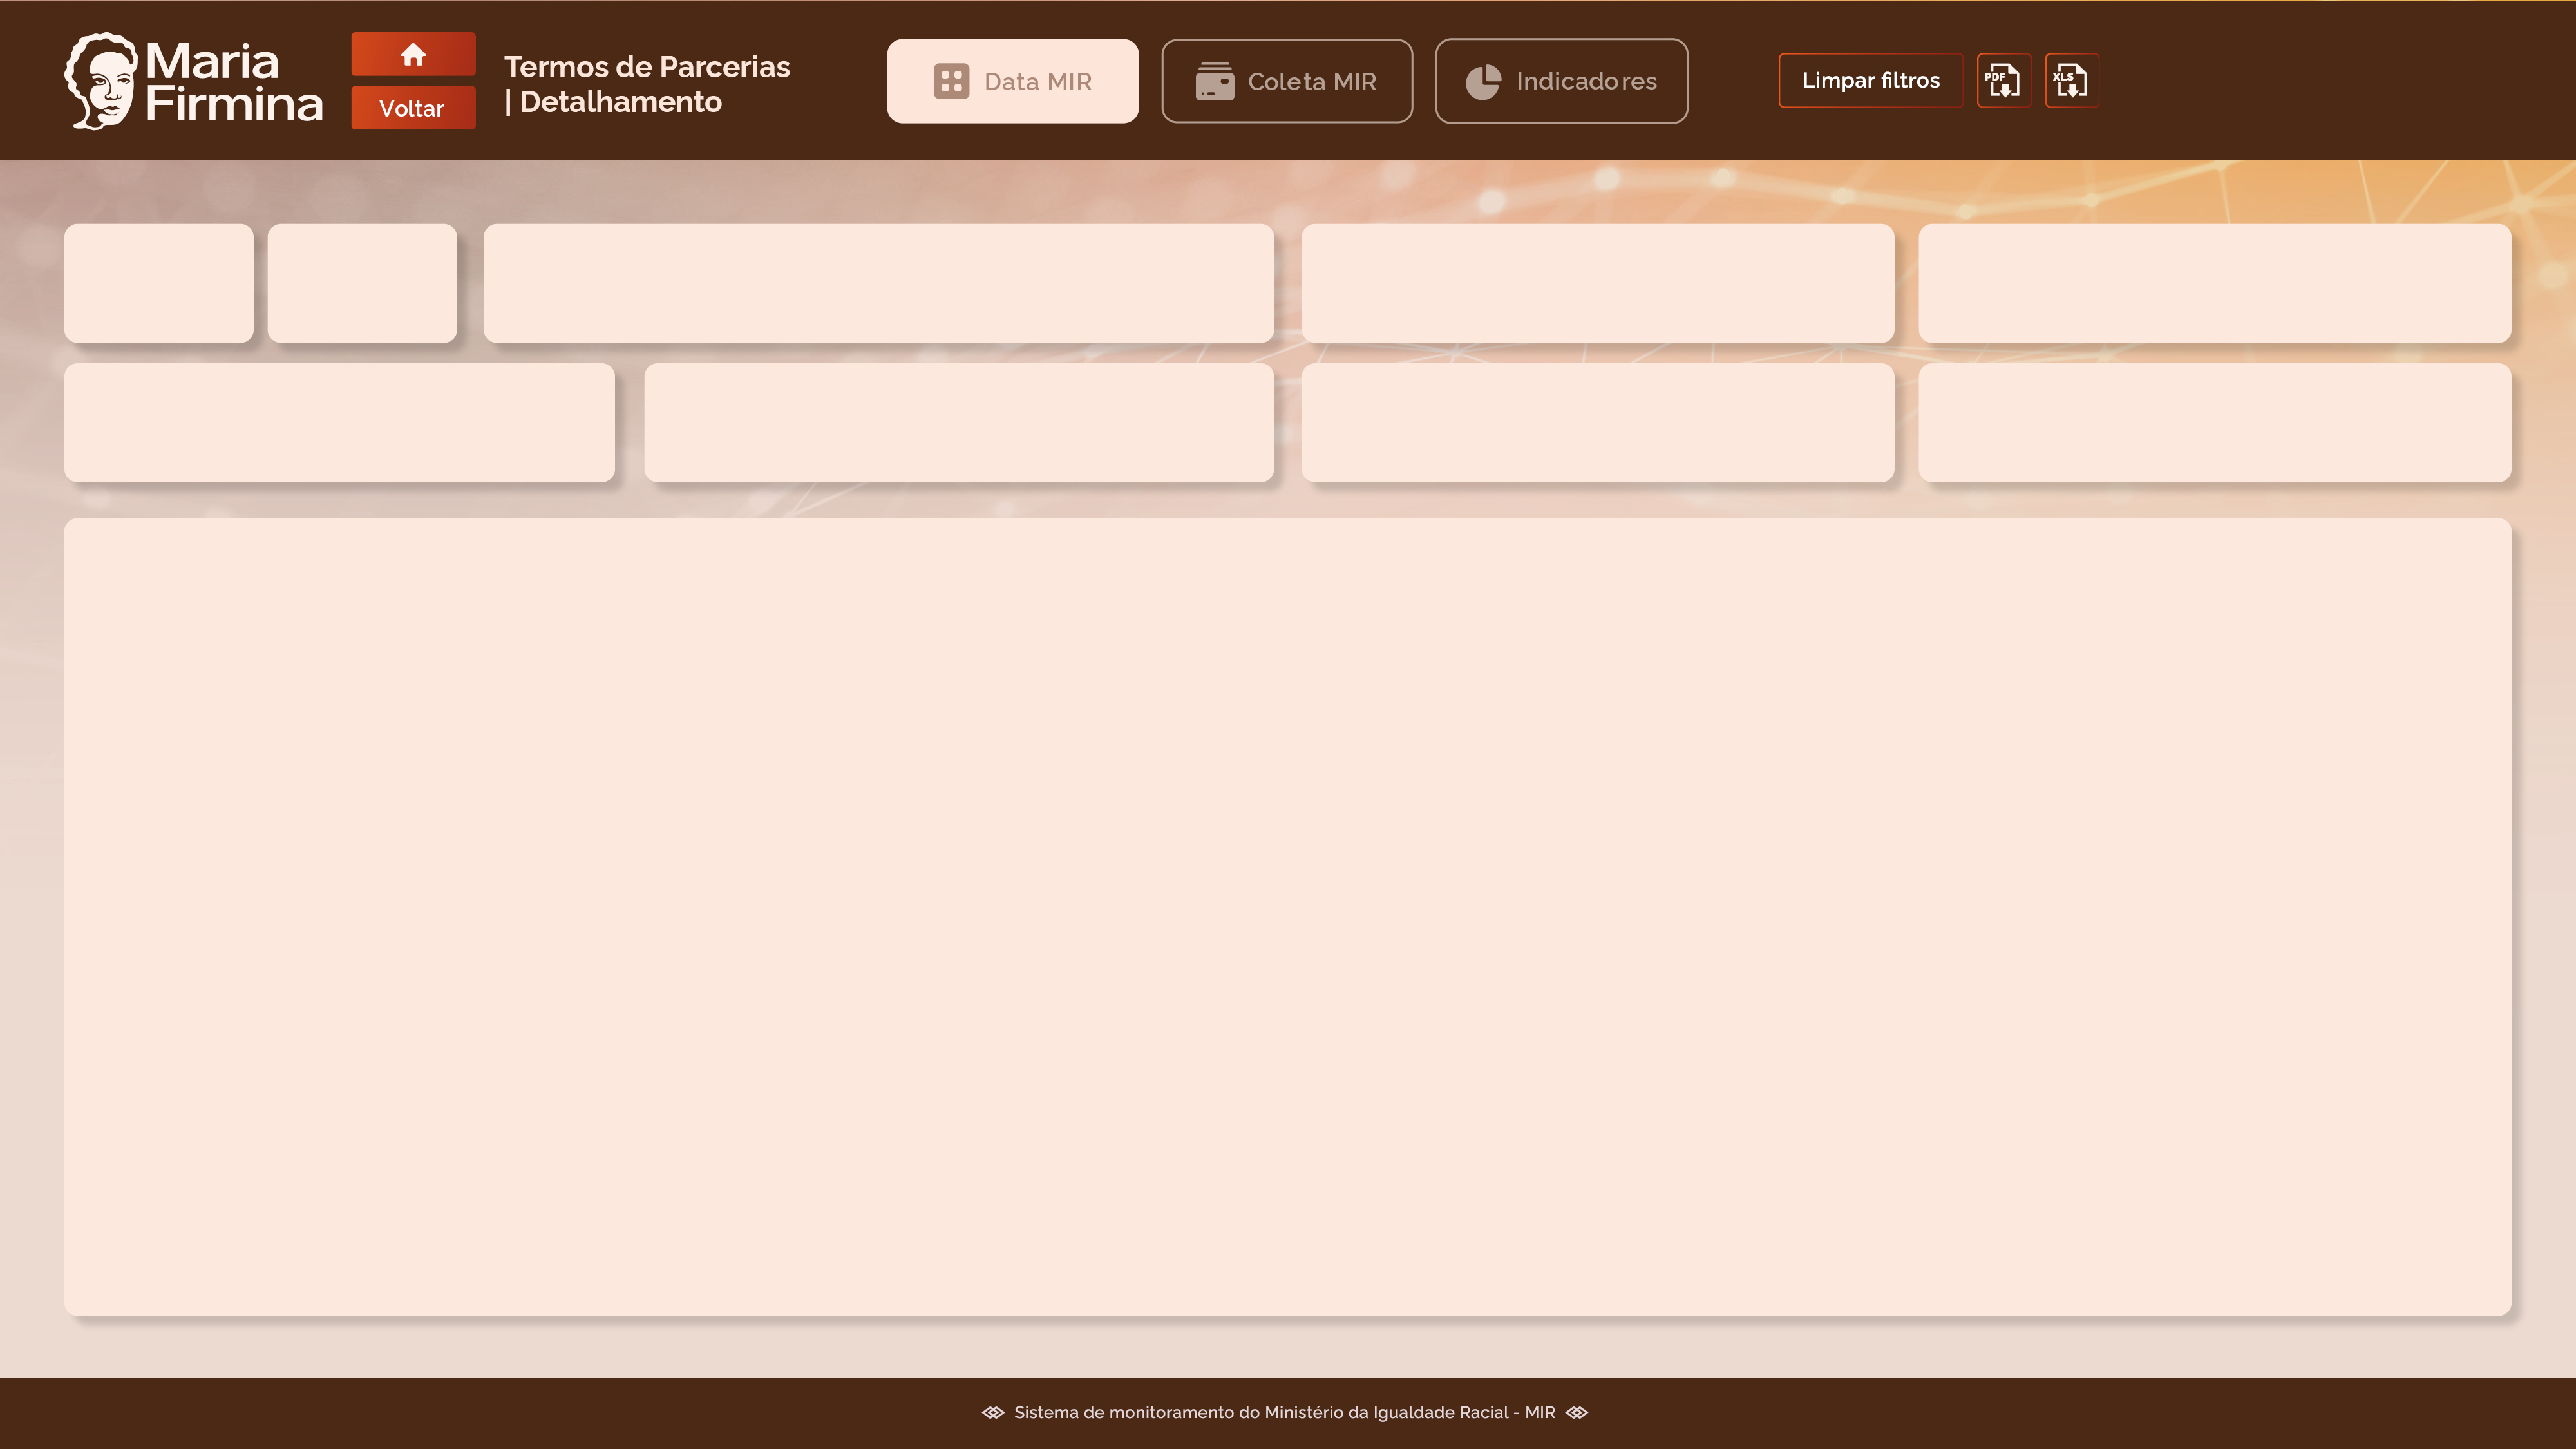

This screenshot's page, from the dashboard's own definition file:
{"tool":"powerbi","page":{"name":"Temos de Parcerias","canvas":[1920,1080],"ordinal":23},"visuals":[{"type":"tableEx","fields":{"Values":["resumo_convenios.data_assinatura.Variation.Hierarquia de datas.Ano","resumo_convenios.nr_convenio","resumo_convenios.situacao_atual","resumo_convenios.modalidade_instrumento","resumo_convenios.parlamentares","resumo_convenios.partidos","resumo_convenios.uf_execucao","resumo_convenios.categoria_convenente","resumo_convenios.nome_convenente","resumo_convenios.objeto","resumo_convenios.data_assinatura","resumo_convenios.inicio_vigencia"]},"box":[51.4,391.4,1820,588.6],"z":0},{"type":"slicer","fields":{"Values":["resumo_convenios.nr_convenio"]},"box":[971.4,170,442.9,82.9],"z":1000},{"type":"slicer","fields":{"Values":["resumo_convenios.situacao_atual"]},"box":[971.4,274.3,442.9,84.3],"z":2000},{"type":"slicer","fields":{"Values":["resumo_convenios.uf_execucao"]},"box":[1434.3,274.3,437.1,84.3],"z":3000},{"type":"slicer","fields":{"Values":["resumo_convenios.nome_convenente"]},"box":[48.6,274.3,408.6,84.3],"z":4000},{"type":"slicer","fields":{"Values":["resumo_convenios.parlamentares"]},"box":[1434.3,170,438.6,82.9],"z":5000},{"type":"slicer","fields":{"Values":["resumo_convenios.partidos"]},"box":[484.3,274.3,464.3,84.3],"z":6000},{"type":"slicer","fields":{"Values":["resumo_convenios.categoria_convenente"]},"box":[364.3,170,584.3,82.9],"z":7000},{"type":"slicer","fields":{"Values":["resumo_convenios.data_assinatura.Variation.Hierarquia de datas.Ano"]},"box":[51.4,170,135.7,82.9],"z":9000},{"type":"slicer","fields":{"Values":["resumo_convenios.data_assinatura.Variation.Hierarquia de datas.Ano"]},"box":[202.9,165.7,137.1,87.1],"z":10000},{"type":"textbox","box":[51.4,991.4,773.6,27.4],"z":11000},{"type":"actionButton","box":[261.5,62,94.3,32.9],"z":12000},{"type":"actionButton","box":[261.7,22.8,92.2,33.3],"z":13000},{"type":"textbox","box":[1642.6,29.3,167.6,71.8],"z":14000},{"type":"actionButton","box":[1326.7,40.7,137.8,38.9],"z":15000},{"type":"image","box":[1820,42,53.3,37.8],"z":16000},{"type":"actionButton","box":[661.3,28.7,187.3,62.7],"z":17000},{"type":"actionButton","box":[866,28.7,187.3,62.7],"z":18000},{"type":"actionButton","box":[1069.3,30,187.3,62.7],"z":19000},{"type":"pageNavigator","box":[48.8,128.8,800,27.5],"z":20000}]}

Visuals, with their boxes on the page's 1920x1080 design canvas (x1, y1, x2, y2). These are canvas units, not pixel positions in the 2576x1449 screenshot, which may show the page scaled, cropped or inside an application window:
tableEx - resumo_convenios.data_assinatura.Variation.Hierarquia de datas.Ano x resumo_convenios.nr_convenio: region(51, 391, 1871, 980)
slicer - resumo_convenios.nr_convenio: region(971, 170, 1414, 253)
slicer - resumo_convenios.situacao_atual: region(971, 274, 1414, 359)
slicer - resumo_convenios.uf_execucao: region(1434, 274, 1871, 359)
slicer - resumo_convenios.nome_convenente: region(49, 274, 457, 359)
slicer - resumo_convenios.parlamentares: region(1434, 170, 1873, 253)
slicer - resumo_convenios.partidos: region(484, 274, 949, 359)
slicer - resumo_convenios.categoria_convenente: region(364, 170, 949, 253)
slicer - resumo_convenios.data_assinatura.Variation.Hierarquia de datas.Ano: region(51, 170, 187, 253)
slicer - resumo_convenios.data_assinatura.Variation.Hierarquia de datas.Ano: region(203, 166, 340, 253)
textbox: region(51, 991, 825, 1019)
actionButton: region(262, 62, 356, 95)
actionButton: region(262, 23, 354, 56)
textbox: region(1643, 29, 1810, 101)
actionButton: region(1327, 41, 1464, 80)
image: region(1820, 42, 1873, 80)
actionButton: region(661, 29, 849, 91)
actionButton: region(866, 29, 1053, 91)
actionButton: region(1069, 30, 1257, 93)
pageNavigator: region(49, 129, 849, 156)
